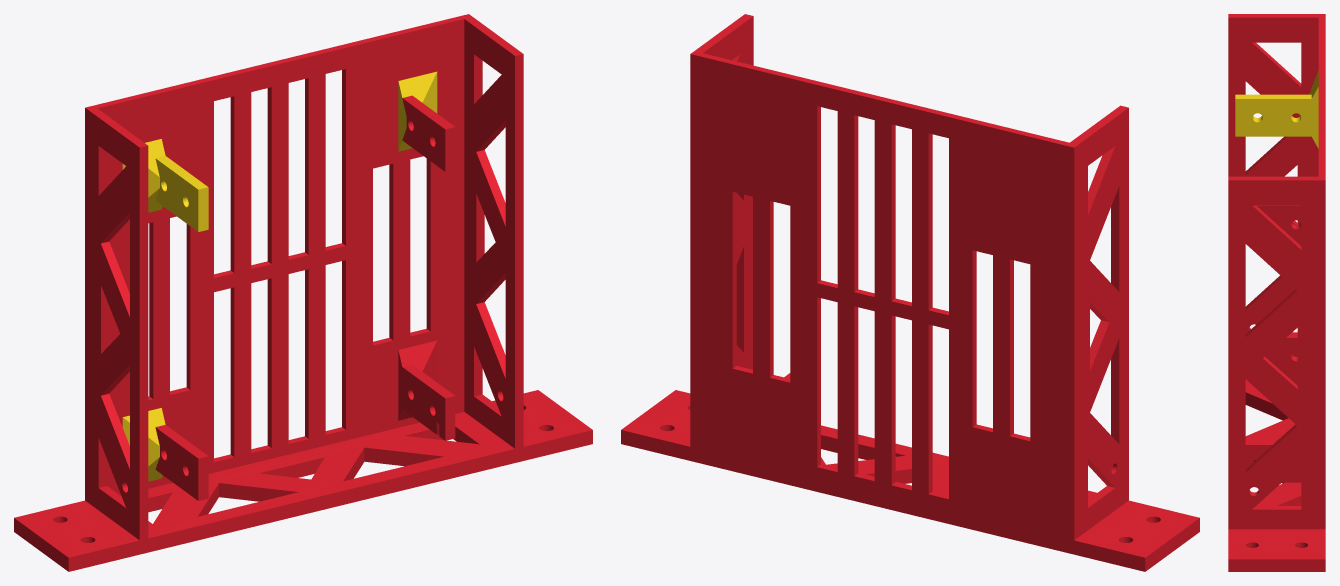
Rendered from tinker.obj.
3 views of the same model, side by side, from view 1: azimuth 30°, elevation 25°; view 2: azimuth 150°, elevation 25°; view 3: azimuth 270°, elevation 25° (orthographic). The views are drawn at different scales.
Visible parts, largest first — view 1: group_0_15277357, group_0_16768282; view 2: group_0_15277357; view 3: group_0_15277357, group_0_16768282.
Part boxes in pixels (left/top/right/bottom): group_0_15277357: left=14, top=14, right=592, bottom=571; group_0_16768282: left=122, top=71, right=437, bottom=481; group_0_15277357: left=621, top=14, right=1199, bottom=571; group_0_15277357: left=1228, top=14, right=1325, bottom=571; group_0_16768282: left=1235, top=70, right=1318, bottom=148.
Bounding box in the file's own units: 155 × 115 × 28.
